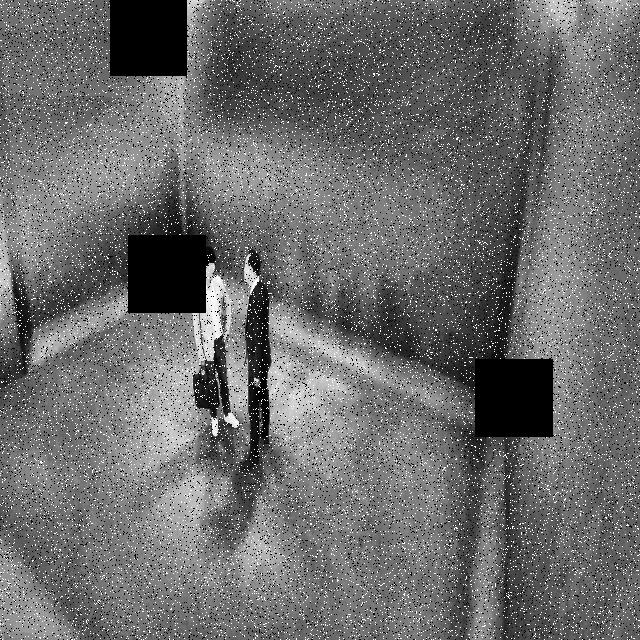assult: (182, 206, 276, 483)
